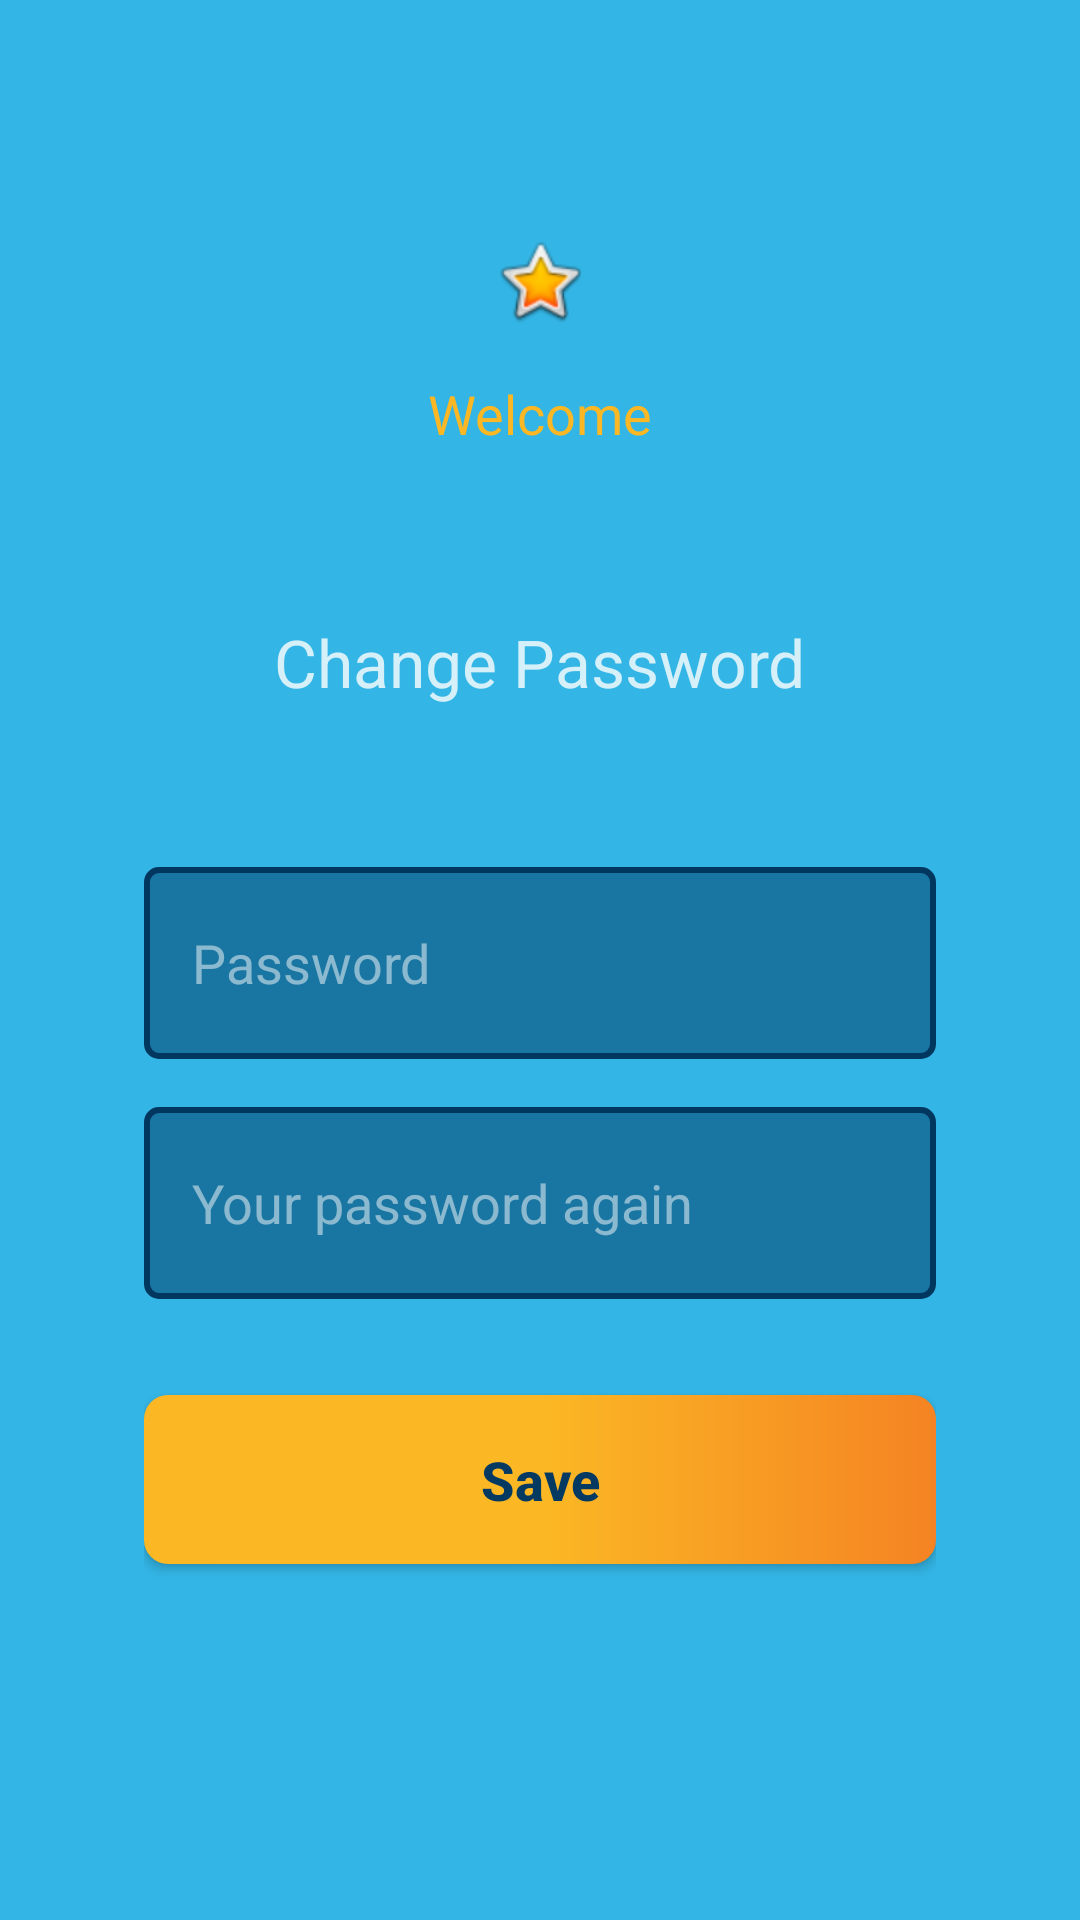

Point at icon controls on the screen. Image size 1080 x 1920, points as (x,y).
star on: (541,282)
